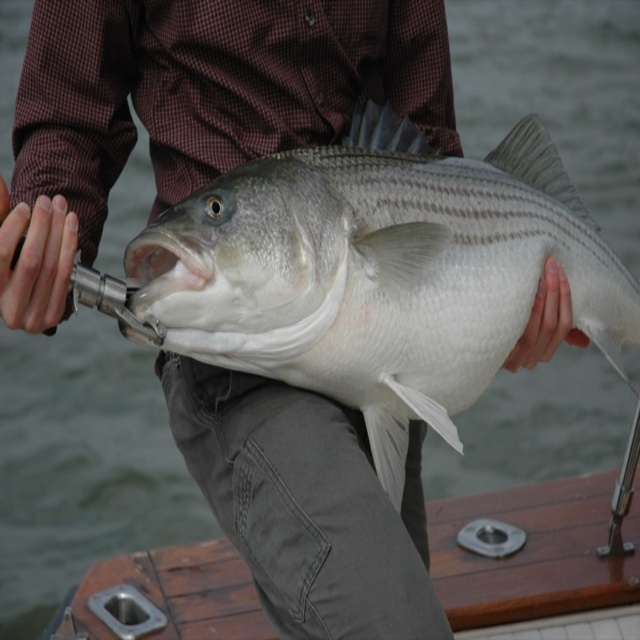Fish: (118, 97, 639, 514)
